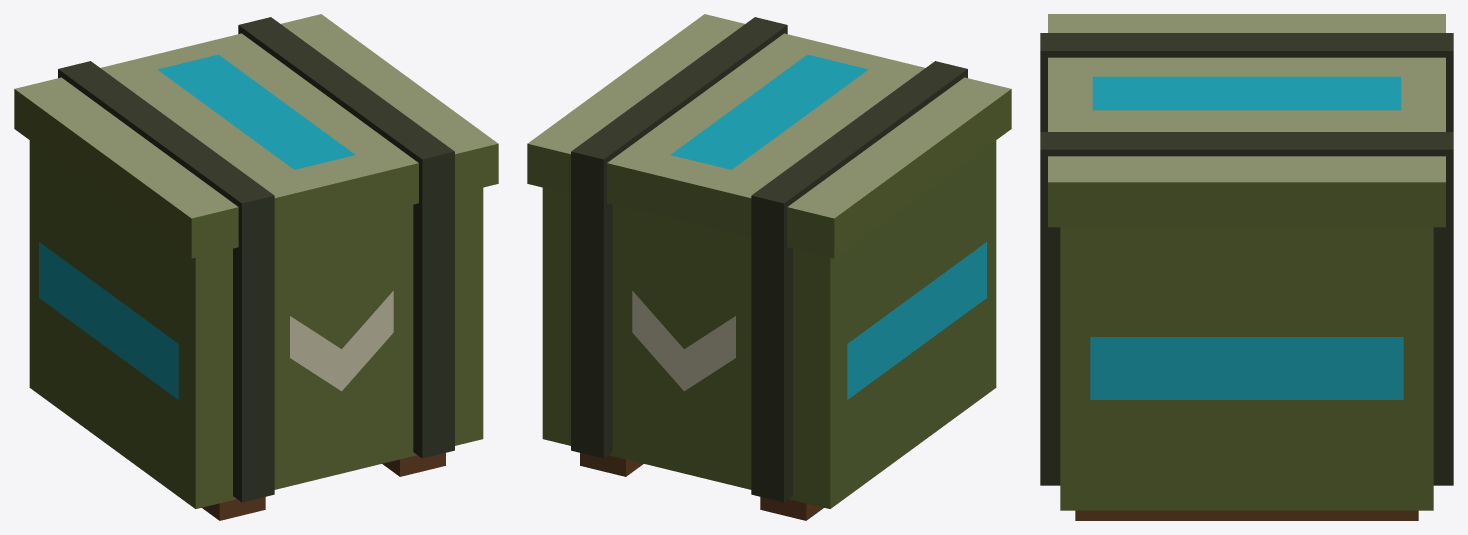
Rendered from prop_crate.glb.
The picture shows the model from 3 angles, left to right: view 1: azimuth 30°, elevation 25°; view 2: azimuth 150°, elevation 25°; view 3: azimuth 270°, elevation 25°; orthographic projection. The views are drawn at different scales.
Parts seen in each view (by area): view 1: prop_crate; view 2: prop_crate; view 3: prop_crate.
Boxes of the visible parts, <box> form: prop_crate: <box>14,14,498,520</box>; prop_crate: <box>527,14,1011,520</box>; prop_crate: <box>1040,14,1453,520</box>.
Bounding box in the file's own units: 1.6 × 1.63 × 1.66.
